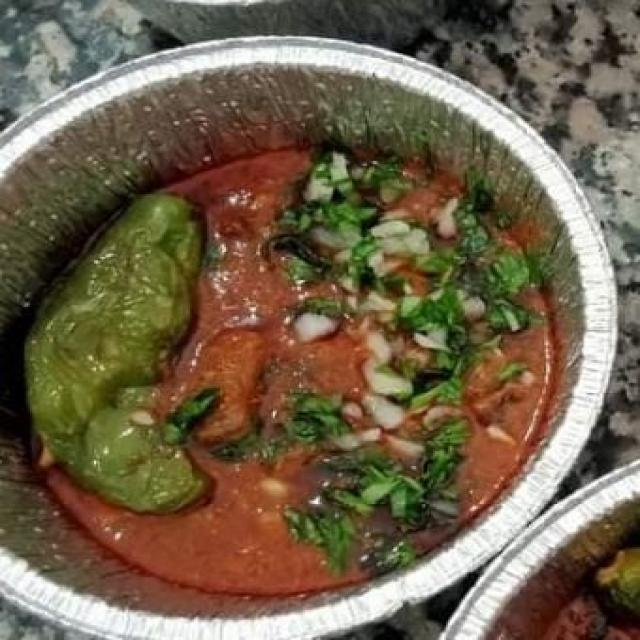kamouniya: (35, 133, 542, 574)
